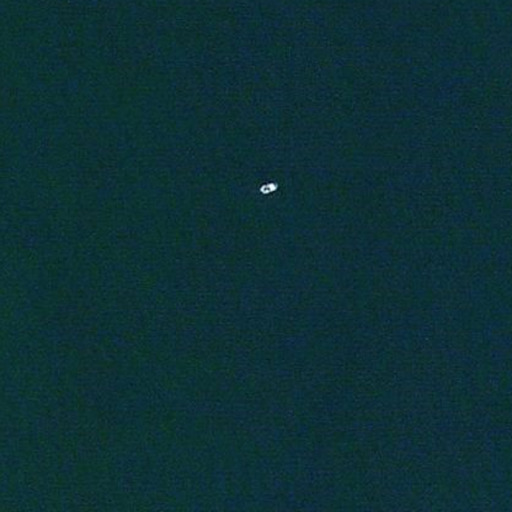ship: (256, 179, 279, 197)
